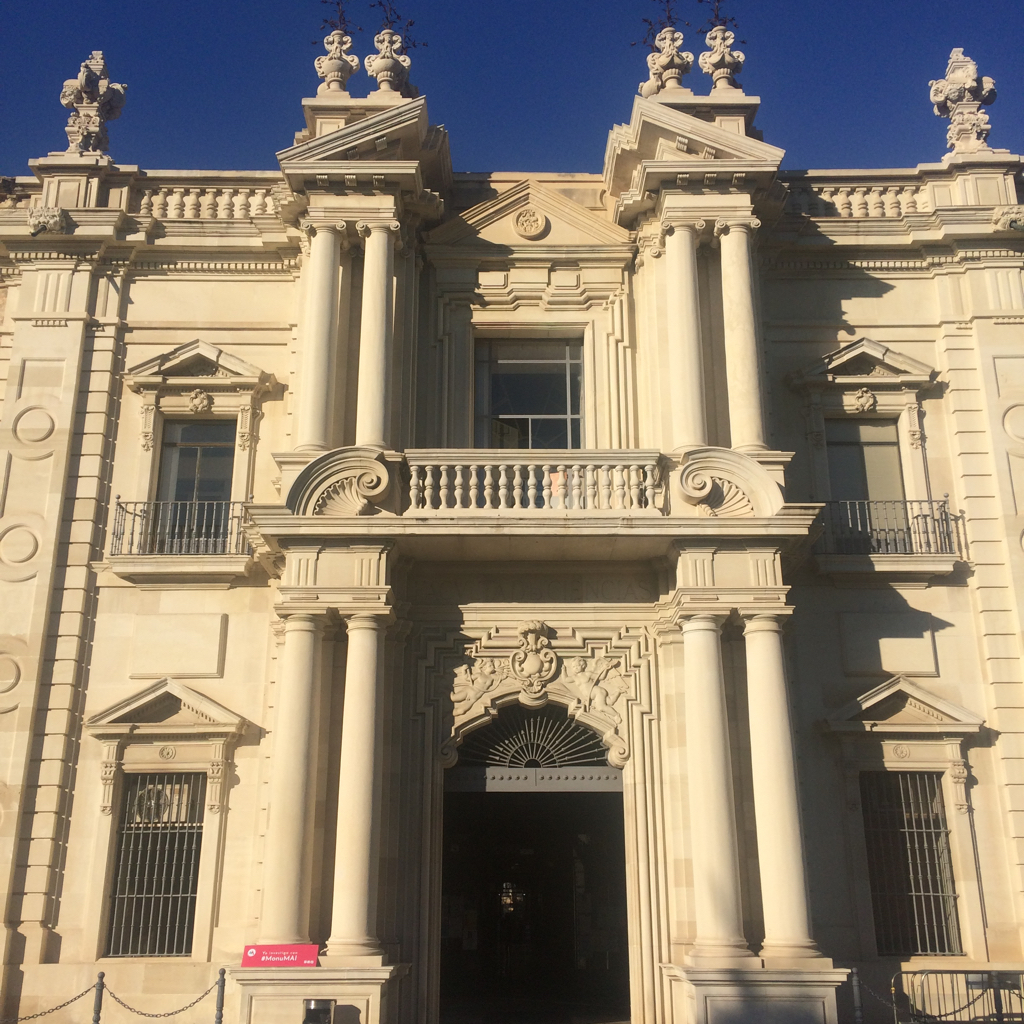fronton: (419, 180, 636, 258), (816, 674, 991, 745), (85, 677, 249, 743), (123, 335, 277, 396), (787, 339, 939, 389)
fronton-partido: (284, 442, 792, 548), (274, 94, 790, 182)
vano-adintelado: (833, 760, 981, 965), (87, 756, 233, 962), (461, 308, 598, 518), (797, 403, 942, 559), (128, 404, 261, 559)
